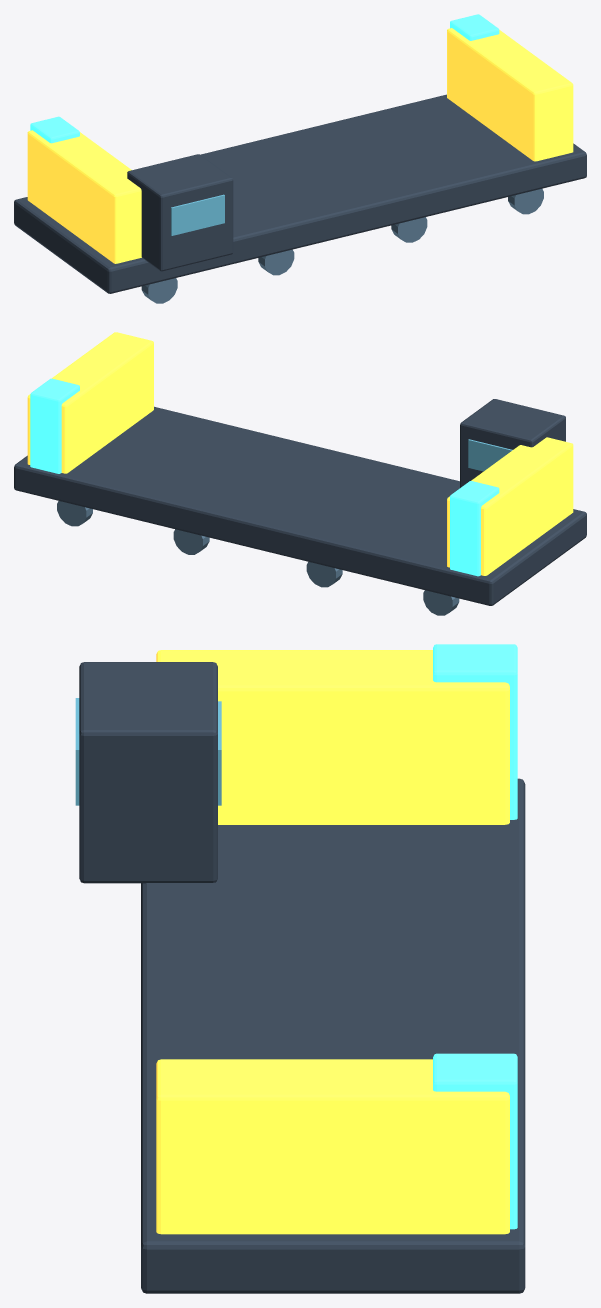
Rendered from mobile-tipper-frame-v4-low.glb.
3 renders of one model, top to bottom at view 1: azimuth 30°, elevation 25°; view 2: azimuth 150°, elevation 25°; view 3: azimuth 270°, elevation 25°, orthographic. The views are drawn at different scales.
Visible parts, largest first — view 1: tp-chassis.001, tp-support-e.001, tp-support-w.001, tp-cabin.001, tp-cabin-win.001, tp-hinge-post-w.001, tp-hinge-post-e.001, tp-wheel--2.0--2.001, tp-wheel--5.5--2.001, tp-wheel-2.0--2.001, tp-wheel-5.5--2.001; view 2: tp-chassis.001, tp-support-e.001, tp-support-w.001, tp-cabin.001, tp-hinge-post-e.001, tp-hinge-post-w.001, tp-cabin-win.001, tp-wheel--2.0-2.001, tp-wheel-2.0-2.001, tp-wheel-5.5-2.001, tp-wheel--5.5-2.001; view 3: tp-chassis.001, tp-support-e.001, tp-support-w.001, tp-cabin.001, tp-hinge-post-e.001, tp-hinge-post-w.001, tp-cabin-win.001.
Boxes of the visible parts, x1,y1,x2,y2 form: tp-chassis.001: (14,94,586,293); tp-support-e.001: (447,28,573,161); tp-support-w.001: (27,130,141,263); tp-cabin.001: (127,154,233,271); tp-cabin-win.001: (171,194,224,235); tp-hinge-post-w.001: (30,116,79,143); tp-hinge-post-e.001: (450,14,499,40); tp-wheel--2.0--2.001: (258,249,294,275); tp-wheel--5.5--2.001: (141,278,177,303); tp-wheel-2.0--2.001: (391,217,427,242); tp-wheel-5.5--2.001: (508,189,543,214); tp-chassis.001: (14,406,586,605); tp-support-e.001: (27,332,153,473); tp-support-w.001: (447,437,573,575); tp-cabin.001: (460,399,565,487); tp-hinge-post-e.001: (30,378,79,473); tp-hinge-post-w.001: (450,481,499,576); tp-cabin-win.001: (468,439,512,471); tp-wheel--2.0-2.001: (306,562,342,587); tp-wheel-2.0-2.001: (173,529,209,554); tp-wheel-5.5-2.001: (57,501,92,526); tp-wheel--5.5-2.001: (423,590,459,615); tp-chassis.001: (141,778,525,1293); tp-support-e.001: (156,1059,509,1234); tp-support-w.001: (156,650,509,824); tp-cabin.001: (79,662,217,883); tp-hinge-post-e.001: (433,1053,517,1229); tp-hinge-post-w.001: (433,644,517,819); tp-cabin-win.001: (75,698,221,805).
Size of the model in its own units: 14.4 by 3.6 by 5.85.
